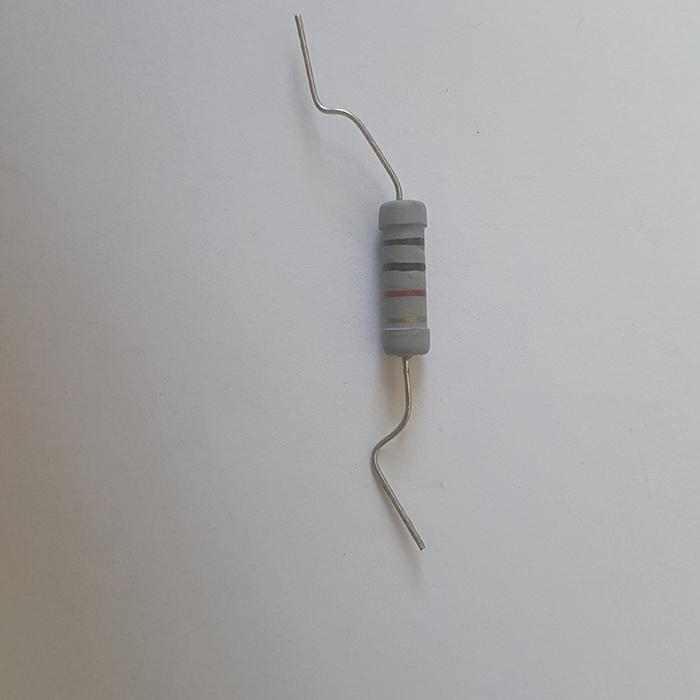resistor: (376, 198, 433, 359)
